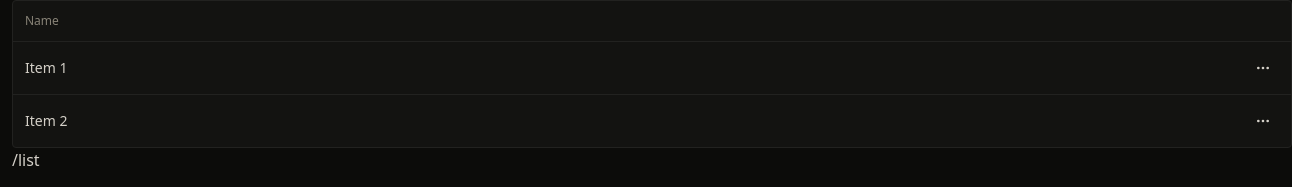
opens the item when its row is clicked
This screenshot has width=1292, height=187.
Click the cell "Item 2": (624, 120) [13,94,1235,146]
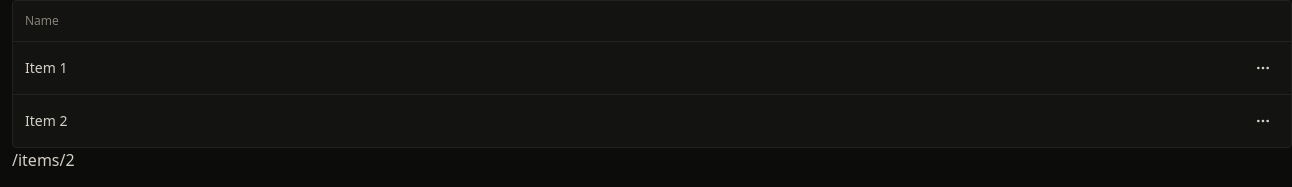
Expected: the text with test id "where" reads "/items/2", [12,148,75,170]
